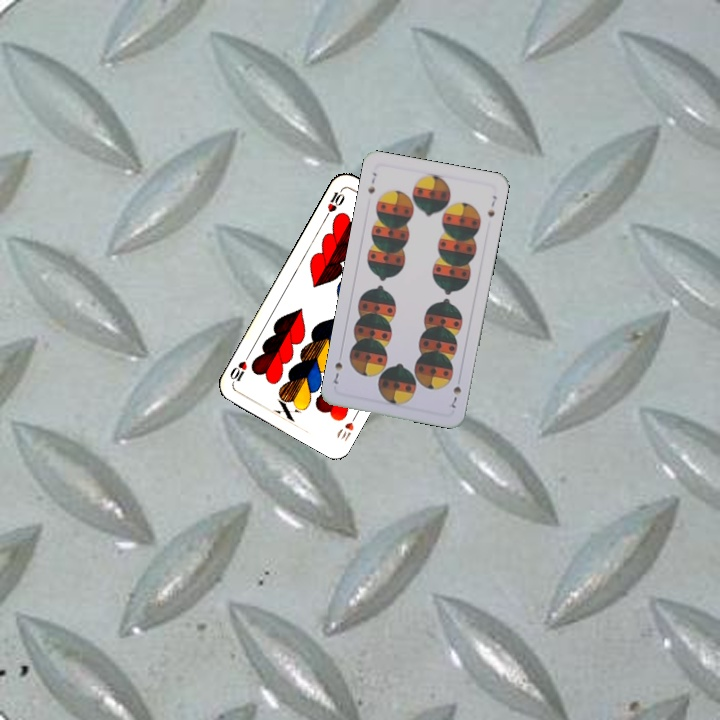H10: (332, 408, 361, 443), (321, 184, 347, 221)
S7: (447, 382, 464, 411), (364, 168, 379, 197)
